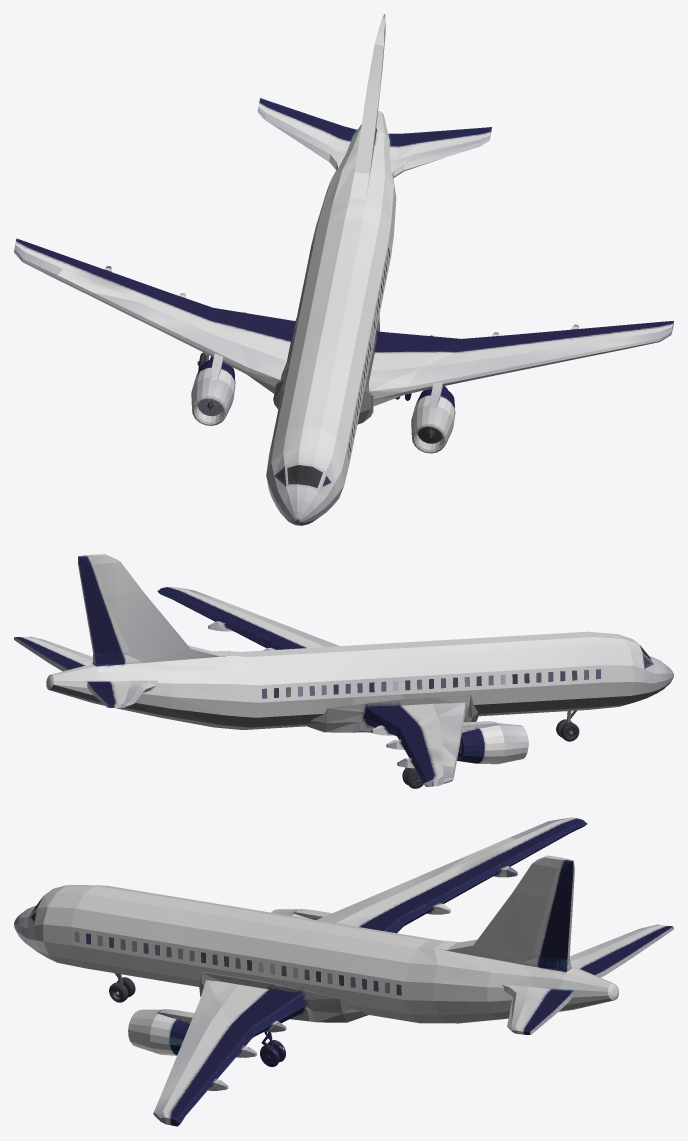
The model's file is Airplane1.glb.
3 renders of one model, top to bottom at view 1: azimuth 30°, elevation 25°; view 2: azimuth 150°, elevation 25°; view 3: azimuth 270°, elevation 25°, orthographic. The views are drawn at different scales.
Visible parts, largest first — view 1: node_id4; view 2: node_id4; view 3: node_id4.
Boxes of the visible parts, x1,y1,x2,y2 form: node_id4: (14,14,673,525); node_id4: (14,554,673,788); node_id4: (14,817,673,1126).
Size of the model in its own units: 0.4266 by 0.2327 by 0.4801.
1 material, 1 textured.
